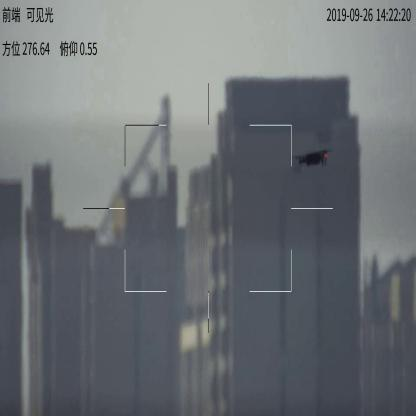uav: (291, 145, 333, 174)
